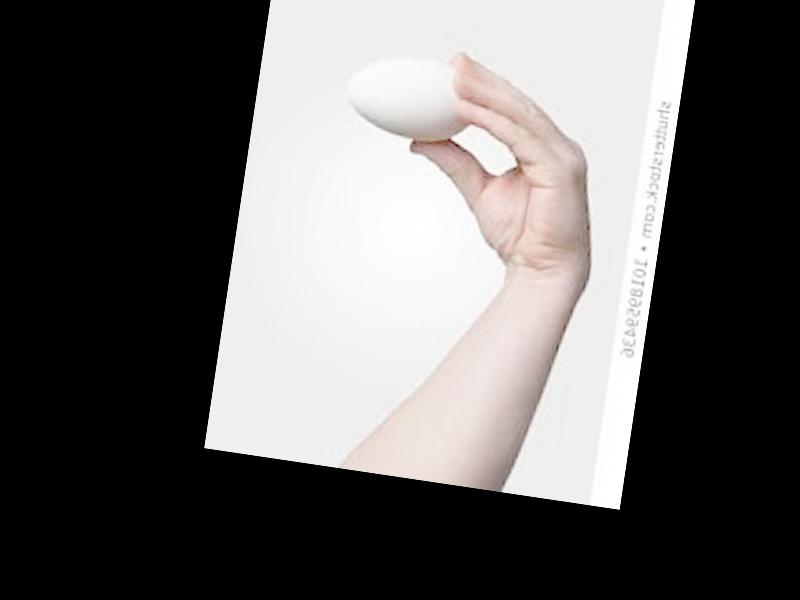Eggs: (339, 45, 480, 147)
